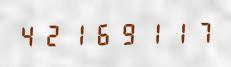four: (17, 21, 40, 48)
nine: (113, 20, 136, 46)
one: (65, 20, 88, 47), (137, 19, 160, 46), (161, 19, 184, 45)
seven: (185, 18, 208, 45)
six: (89, 20, 112, 47)
two: (41, 21, 64, 47)
